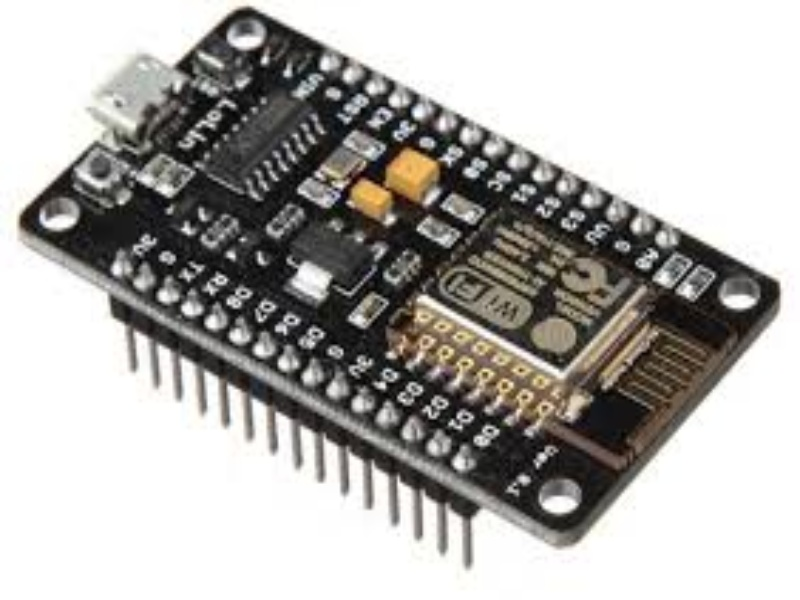esp32: (28, 9, 766, 550)
